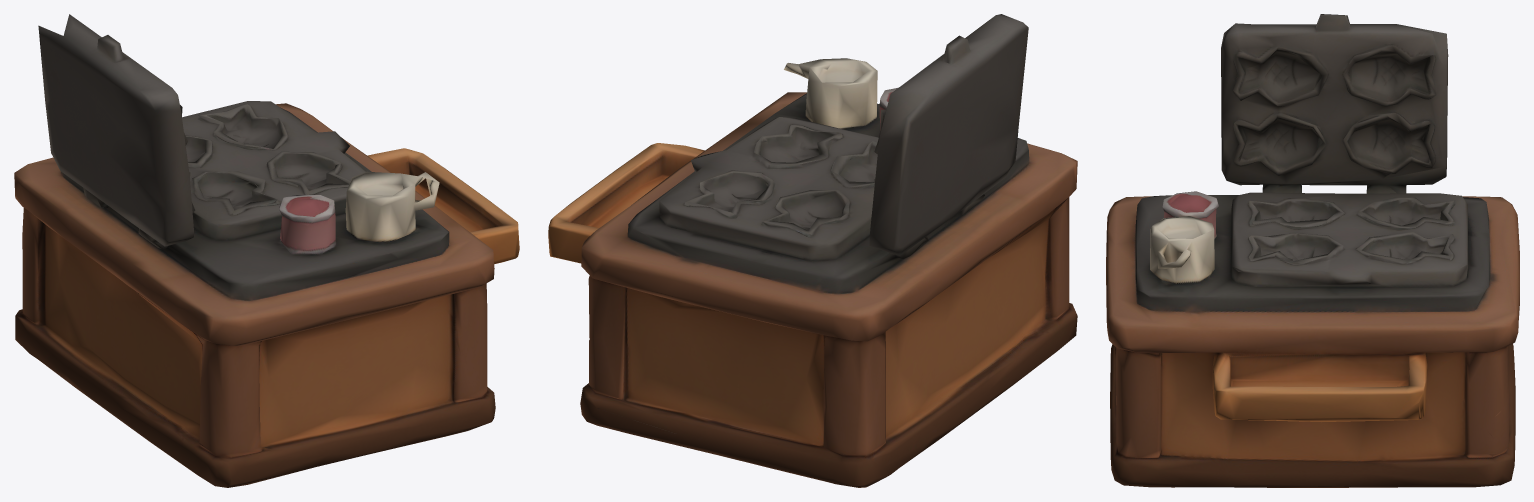
Rendered from KR_사물_s1_dessert_stand_bungeoppang.glb.
3 views of the same model, side by side, from view 1: azimuth 30°, elevation 25°; view 2: azimuth 150°, elevation 25°; view 3: azimuth 270°, elevation 25° (orthographic). The views are drawn at different scales.
Parts seen in each view (by area): view 1: tripo_node_ee1c7b28-e853-4a75-b65c-eca9523baf76; view 2: tripo_node_ee1c7b28-e853-4a75-b65c-eca9523baf76; view 3: tripo_node_ee1c7b28-e853-4a75-b65c-eca9523baf76.
Boxes of the visible parts, box(x1,y1,x2,y2) form: tripo_node_ee1c7b28-e853-4a75-b65c-eca9523baf76: box(14, 14, 519, 487); tripo_node_ee1c7b28-e853-4a75-b65c-eca9523baf76: box(548, 14, 1077, 487); tripo_node_ee1c7b28-e853-4a75-b65c-eca9523baf76: box(1106, 14, 1519, 487).
Size of the model in its own units: 0.9727 by 0.9283 by 1.
Materials: 1 (1 with a texture image).
